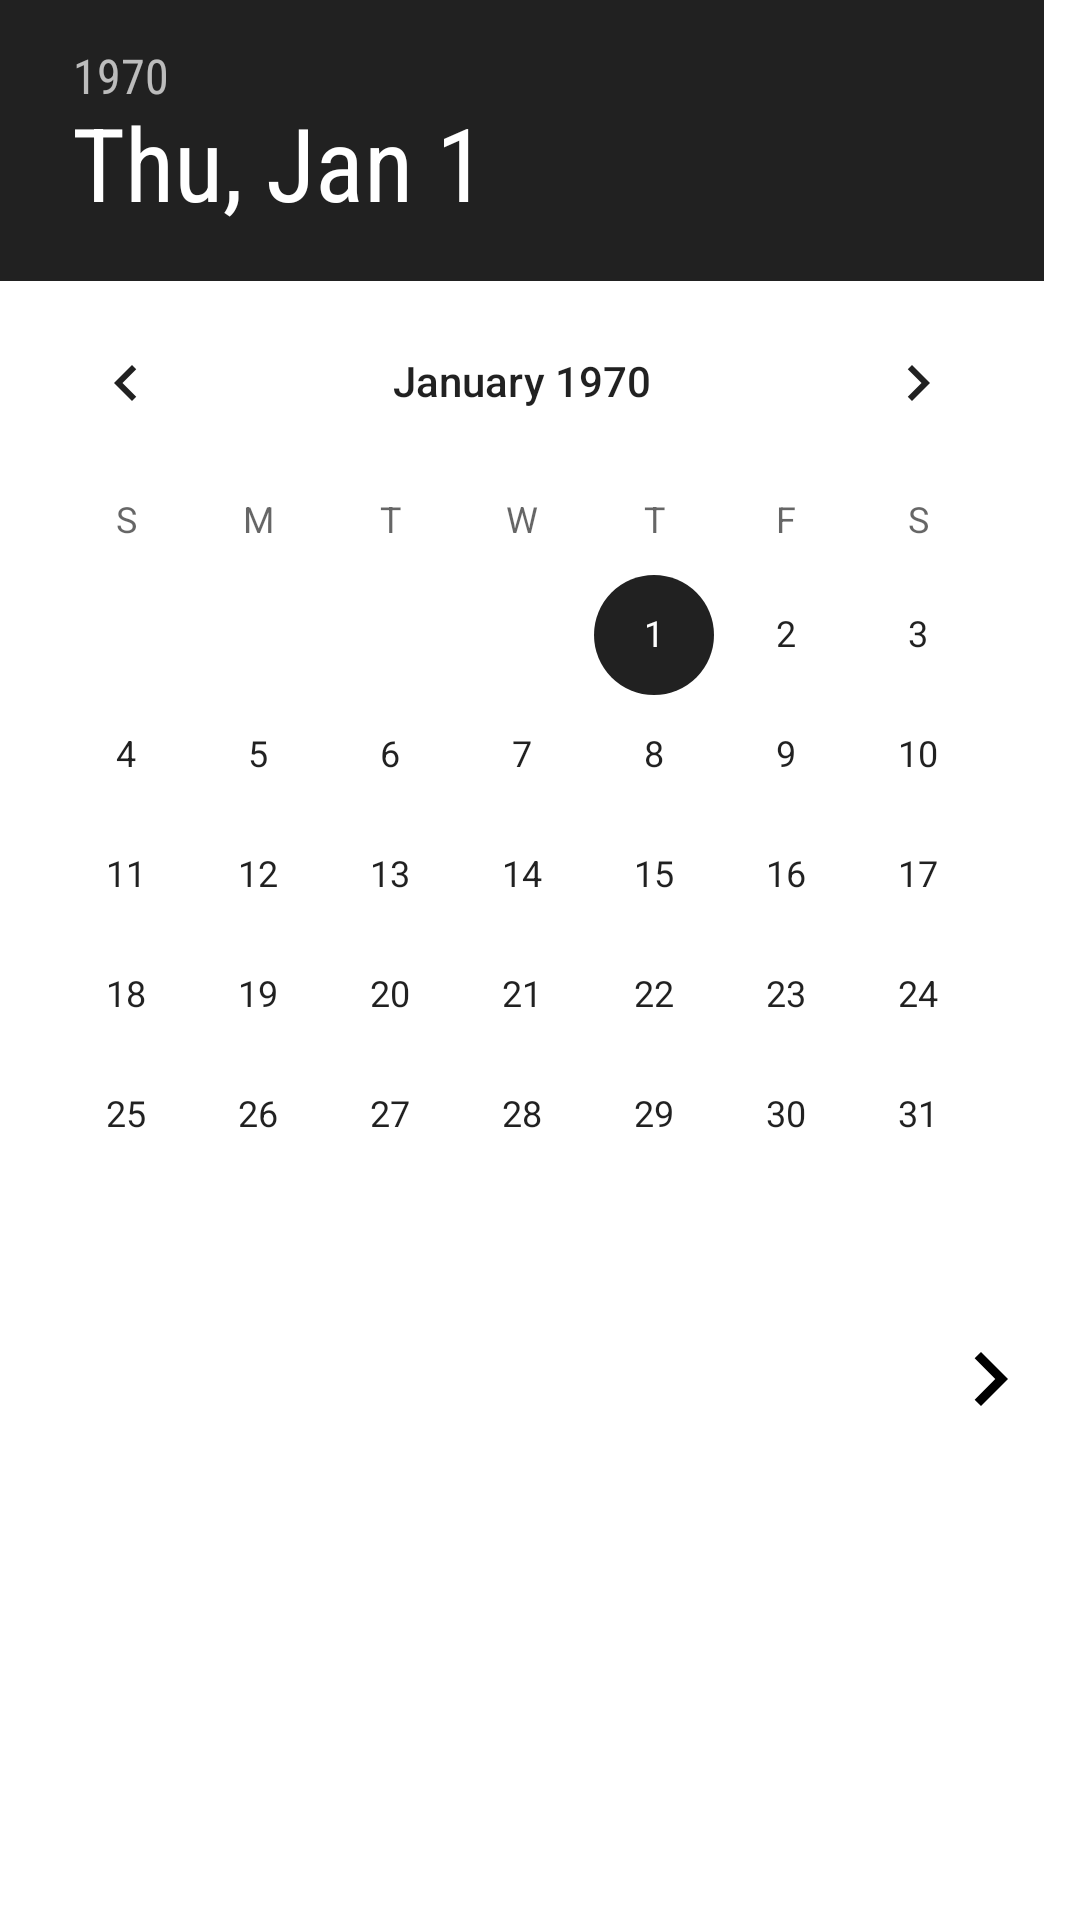

Where to tap for icons on this 1080px×1920px app screen, as point (x, y):
right: point (991, 1379)
